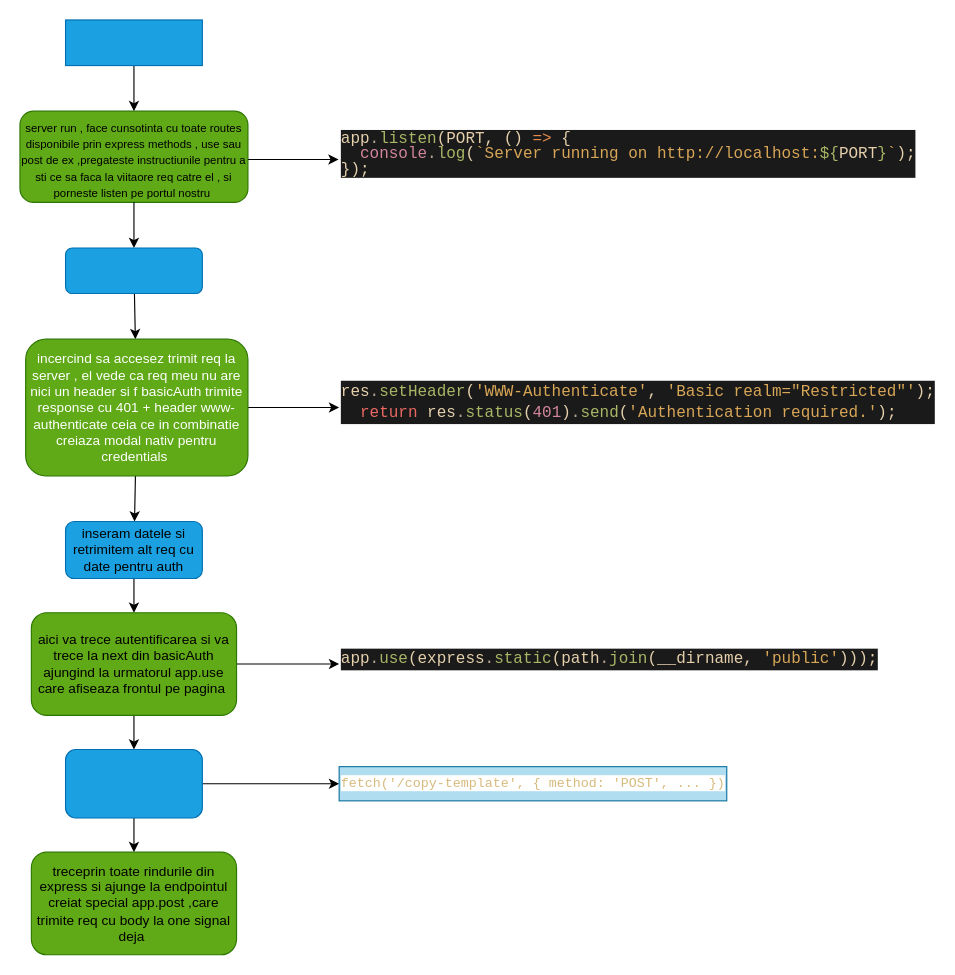
This 955x975 diagram has some shape labels left out. The centre of each missing label's shape, as x and y in pixels:
"inseram datele in formular si apasam send" goes at [133,783].
"localhost:PORT" goes at [133,270].
"npm start" goes at [133,42].
